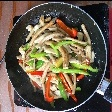chashugu: (16, 16, 95, 100)
